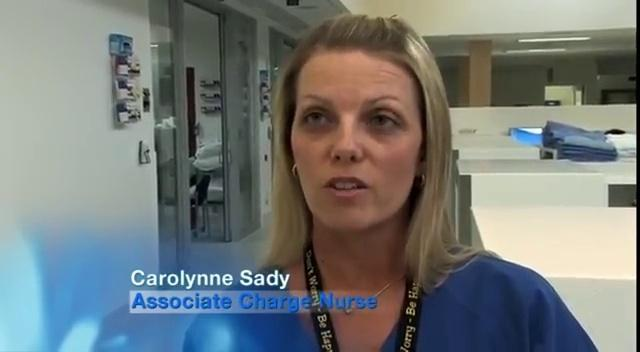nurse: (176, 12, 604, 352)
